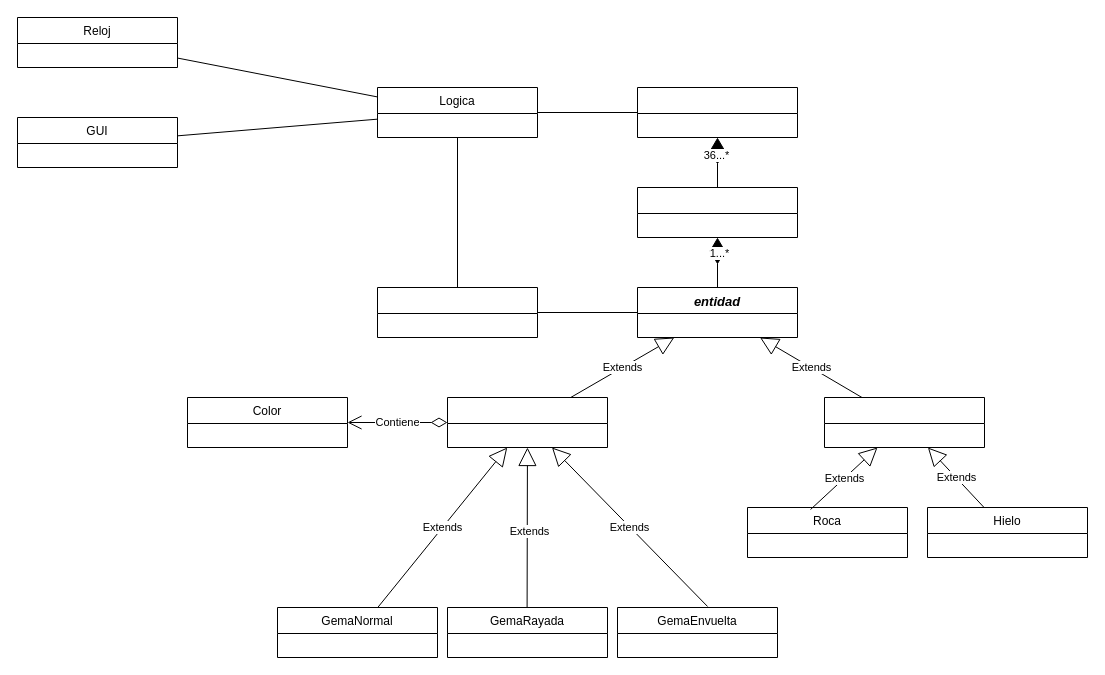
Some shapes in this 1105 by 675 pixel diagram are drawn without their labels. The centre of each missing label's shape, as x and y in pixels:
Bloque: (717,212)
Contador: (457,312)
Gemas: (527,422)
Obstaculo: (904,422)
Tablero: (717,112)
